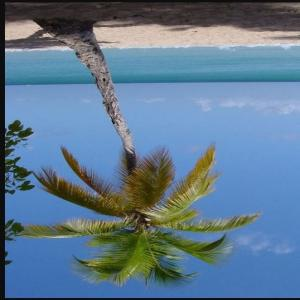palm tree: (6, 141, 262, 289)
